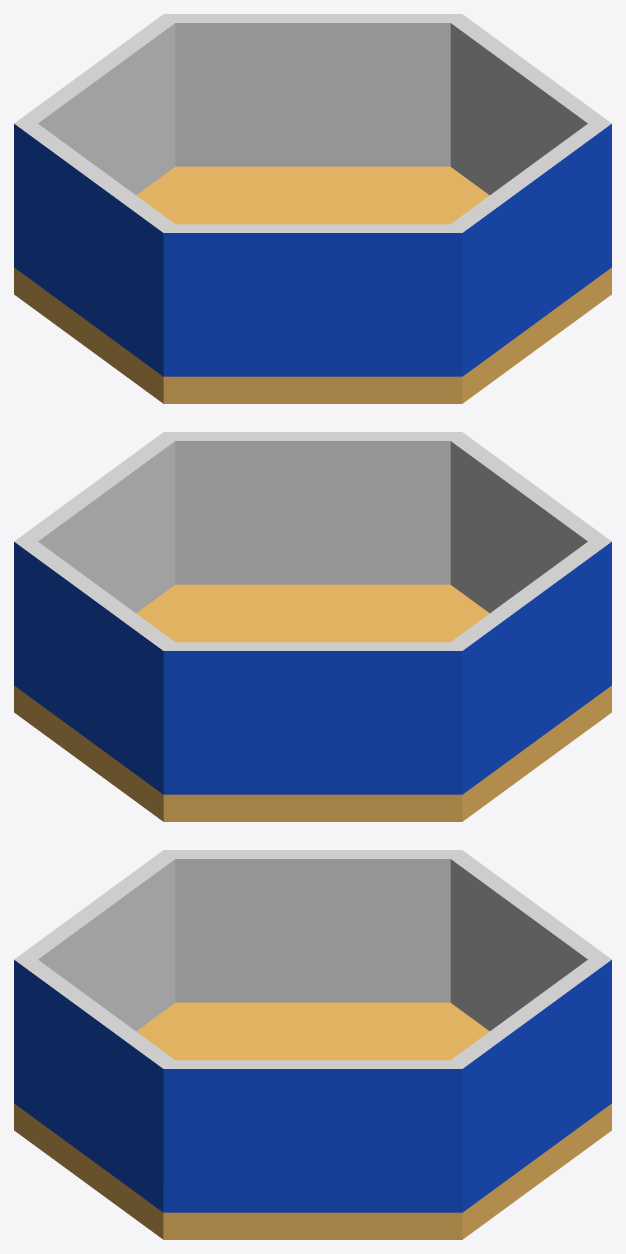
Rendered from hexagon.fbx.
The picture shows the model from 3 angles, top to bottom: view 1: azimuth 30°, elevation 25°; view 2: azimuth 150°, elevation 25°; view 3: azimuth 270°, elevation 25°; orthographic projection.
Parts seen in each view (by area): view 1: HexWall, HexWall.001, HexFloor, HexWall.002, HexWall.003; view 2: HexWall, HexWall.001, HexFloor, HexWall.002, HexWall.003; view 3: HexWall, HexWall.001, HexFloor, HexWall.002, HexWall.003.
Part boxes in pixels (x1,y1,x2,y2): HexWall: (14, 124, 611, 376); HexWall.001: (38, 23, 587, 181); HexFloor: (14, 166, 611, 403); HexWall.002: (14, 14, 611, 232); HexWall.003: (118, 139, 507, 194); HexWall: (14, 542, 611, 794); HexWall.001: (38, 441, 587, 599); HexFloor: (14, 584, 611, 821); HexWall.002: (14, 432, 611, 650); HexWall.003: (118, 557, 507, 612); HexWall: (14, 960, 611, 1212); HexWall.001: (38, 859, 587, 1017); HexFloor: (14, 1002, 611, 1239); HexWall.002: (14, 850, 611, 1068); HexWall.003: (118, 975, 507, 1030).
Size of the model in its own units: 86.6 by 31.52 by 100.
